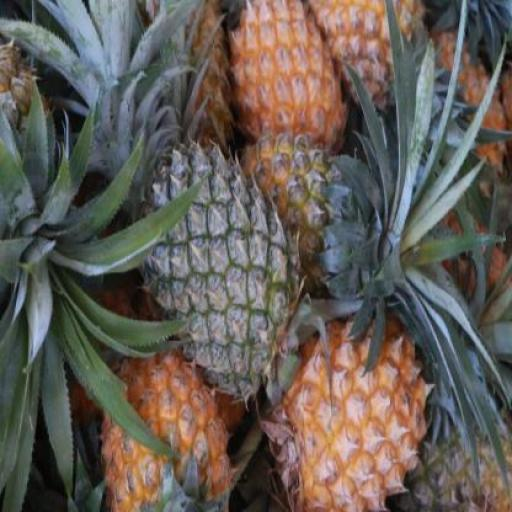Pineapple - v8 v1: (276, 310, 428, 512), (93, 343, 229, 511), (230, 0, 345, 156), (308, 0, 424, 113)
